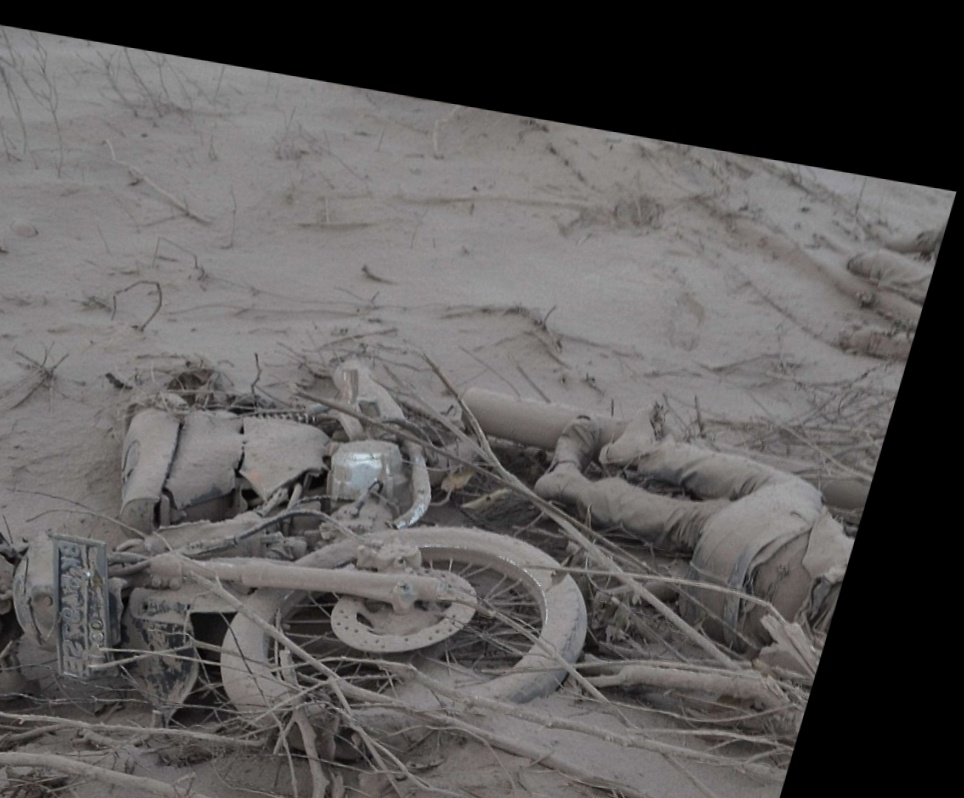Korban: (492, 380, 890, 676)
